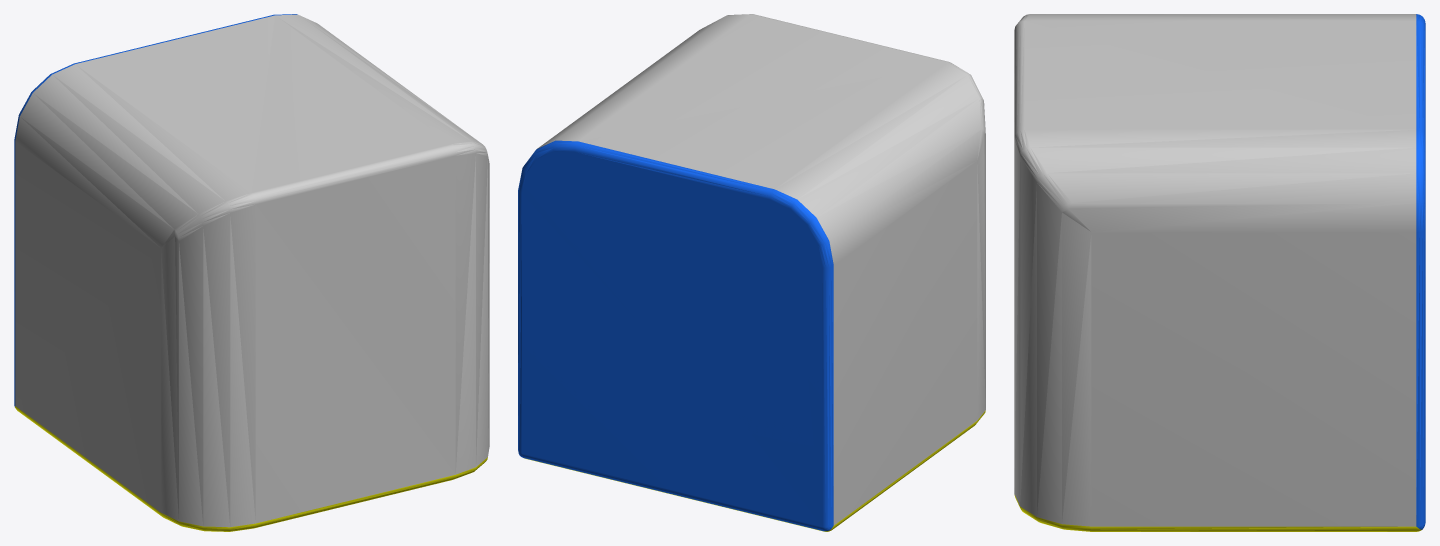
The picture shows the model from 3 angles, left to right: view 1: azimuth 30°, elevation 25°; view 2: azimuth 150°, elevation 25°; view 3: azimuth 270°, elevation 25°; orthographic projection. The views are drawn at different scales.
Parts seen in each view (by area): view 1: edge_DB; view 2: edge_DB; view 3: edge_DB.
Part boxes in pixels (<box>): edge_DB: <box>14,14,489,531</box>; edge_DB: <box>518,14,985,531</box>; edge_DB: <box>1014,14,1425,531</box>.
Bounding box in the file's own units: 0.2003 × 0.2003 × 0.2003.
1 material, 1 textured.
